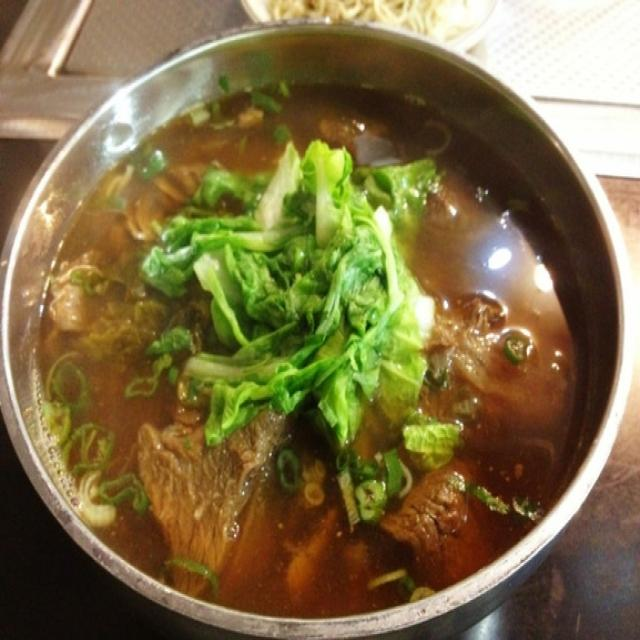面条主食: (31, 27, 613, 607)
